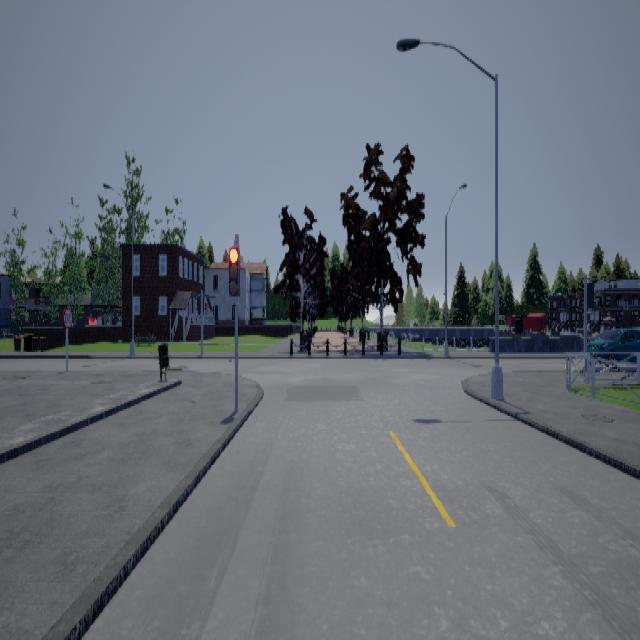red_light: (230, 236, 241, 305)
traffic_sign: (63, 306, 74, 326)
vehicle: (586, 325, 640, 374)
